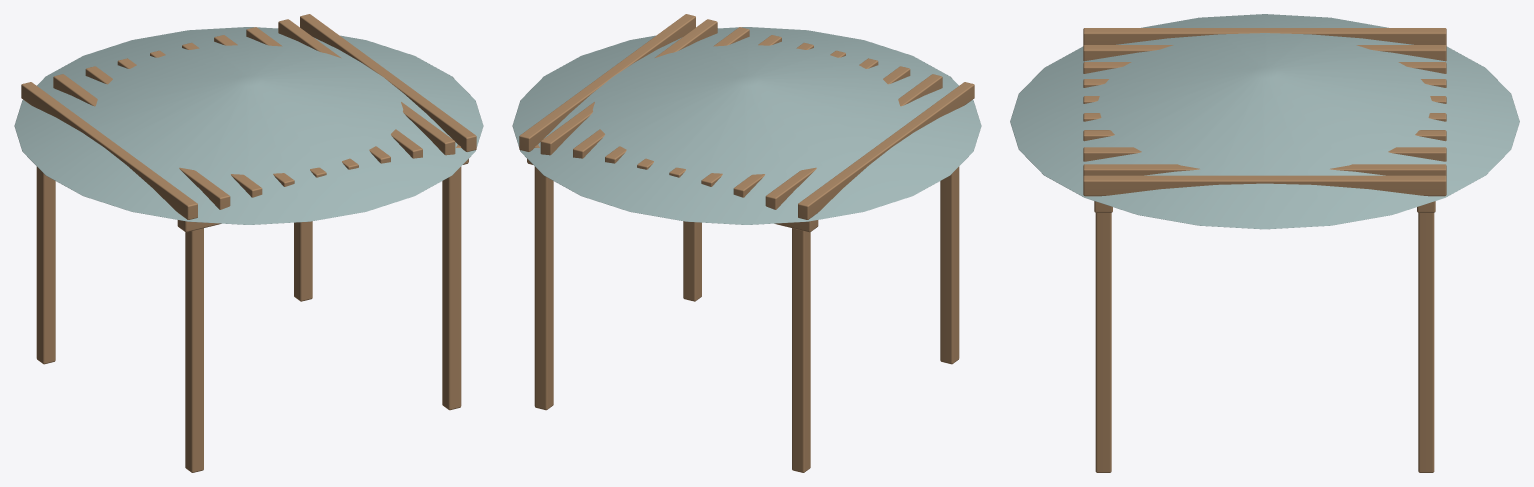
The model's file is atelier-gazebo.glb.
3 renders of one model, left to right at view 1: azimuth 30°, elevation 25°; view 2: azimuth 150°, elevation 25°; view 3: azimuth 270°, elevation 25°, orthographic. The views are drawn at different scales.
Visible parts, largest first — view 1: fabric.100, legs.200; view 2: fabric.100, legs.200; view 3: fabric.100, legs.200.
Part boxes in pixels (bbox=[...]): fabric.100: bbox=[14, 27, 483, 224]; legs.200: bbox=[21, 14, 476, 472]; fabric.100: bbox=[512, 27, 981, 224]; legs.200: bbox=[519, 14, 974, 472]; fabric.100: bbox=[1010, 14, 1519, 229]; legs.200: bbox=[1083, 28, 1446, 472].
Bounding box in the file's own units: 3.79 × 2.7 × 3.79.
